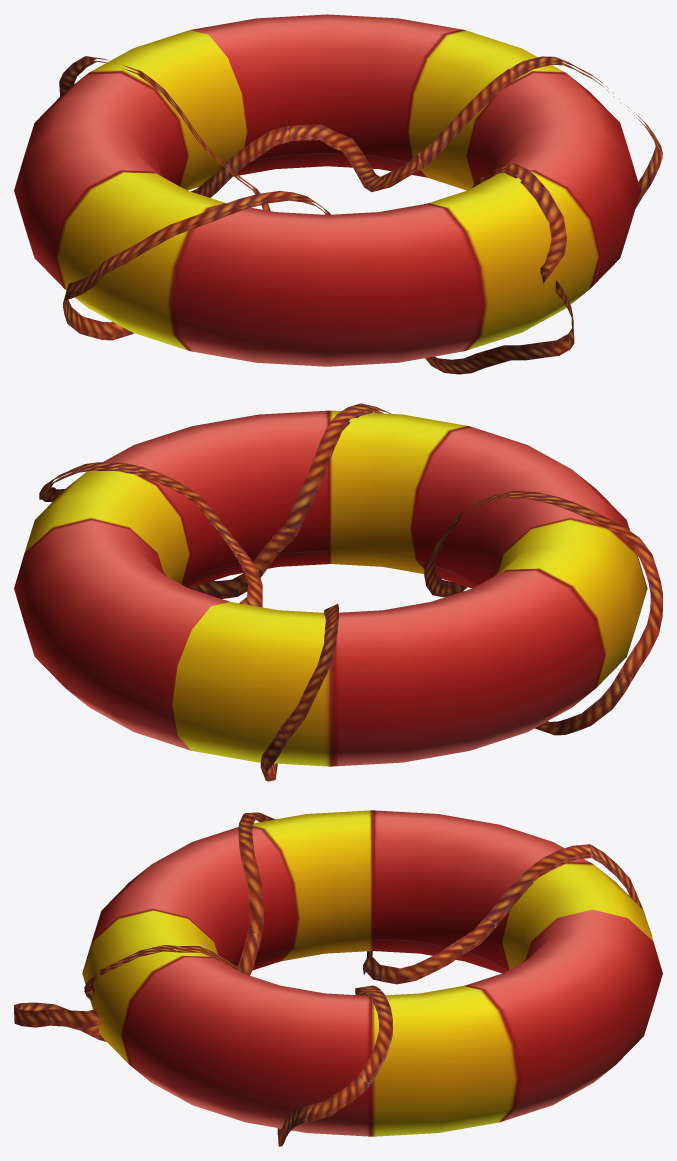
The model's file is jiushengquan.fbx.
3 renders of one model, top to bottom at view 1: azimuth 30°, elevation 25°; view 2: azimuth 150°, elevation 25°; view 3: azimuth 270°, elevation 25°, orthographic. The views are drawn at different scales.
Visible parts, largest first — view 1: jiushengquan; view 2: jiushengquan; view 3: jiushengquan.
Boxes of the visible parts, x1=… form: jiushengquan: x1=14, y1=14, x2=662, y2=374; jiushengquan: x1=14, y1=403, x2=662, y2=781; jiushengquan: x1=14, y1=810, x2=662, y2=1146.
Size of the model in its own units: 46.9 by 13.34 by 48.2.
